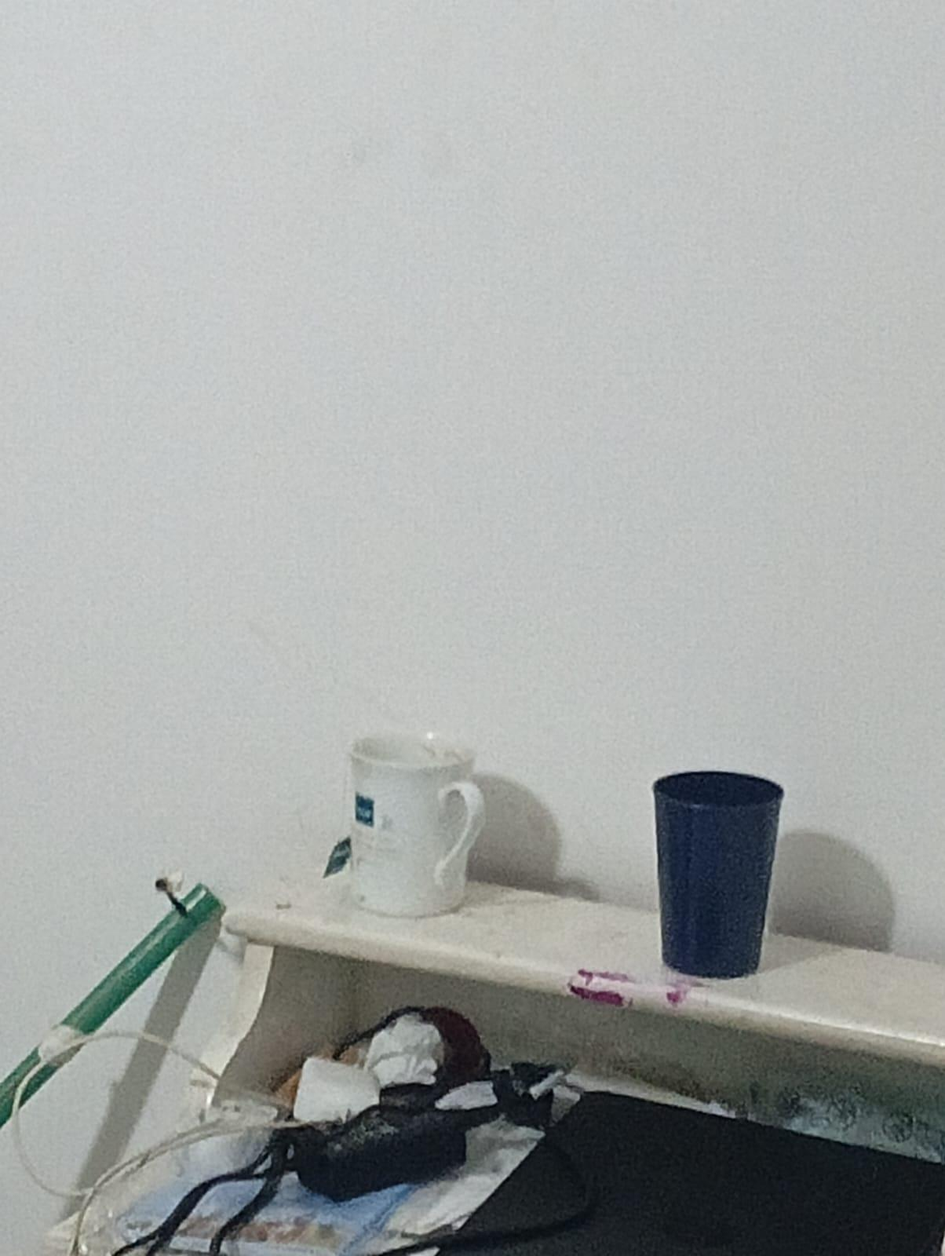cup: (653, 772, 783, 977), (350, 735, 483, 916)
